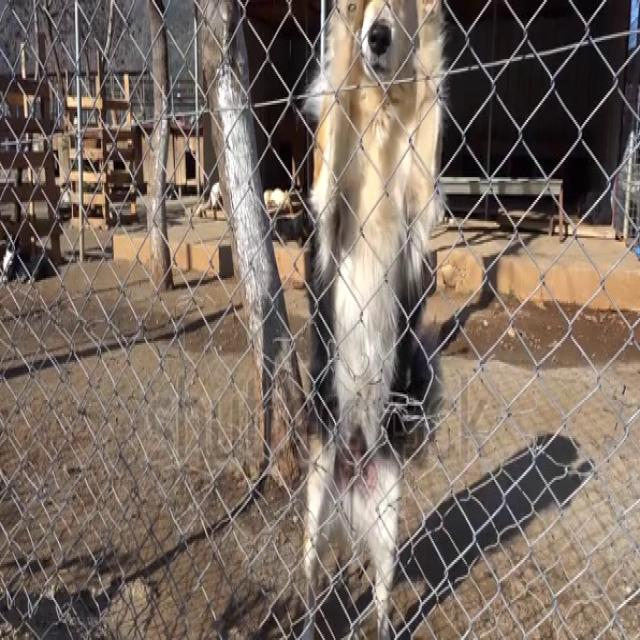injured-animals: (291, 2, 451, 635)
